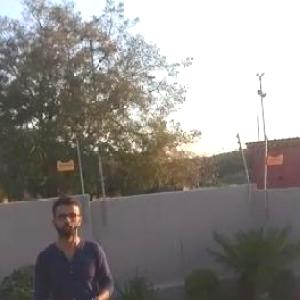follow: (32, 186, 122, 299)
